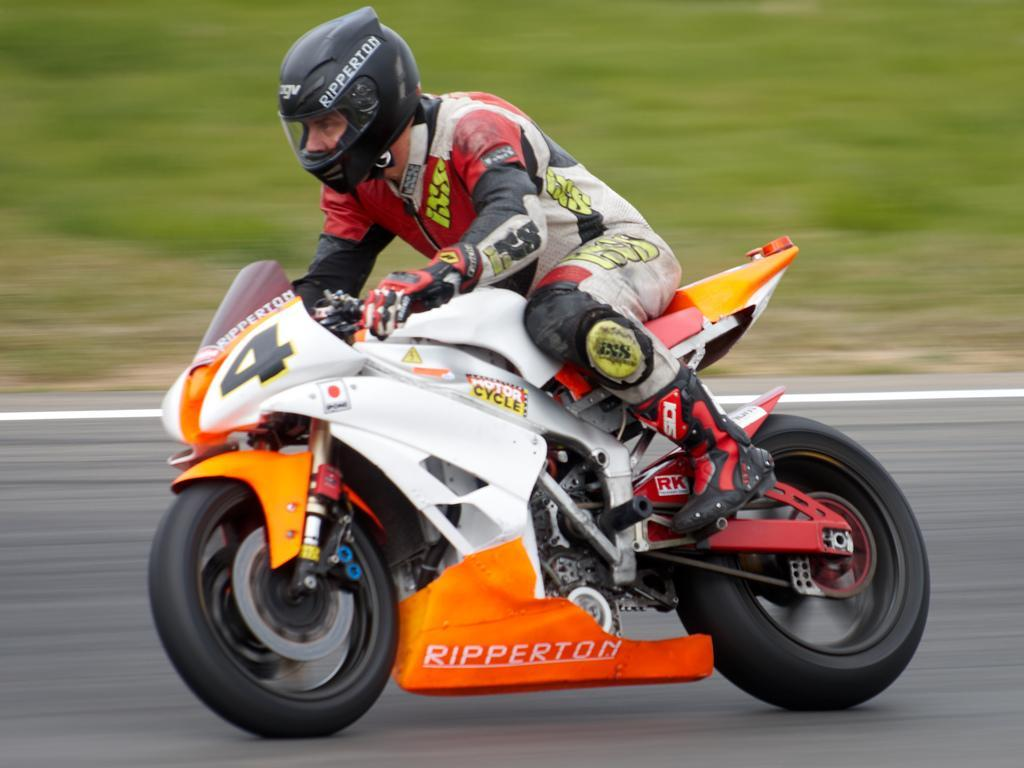helmet: (277, 4, 423, 195)
